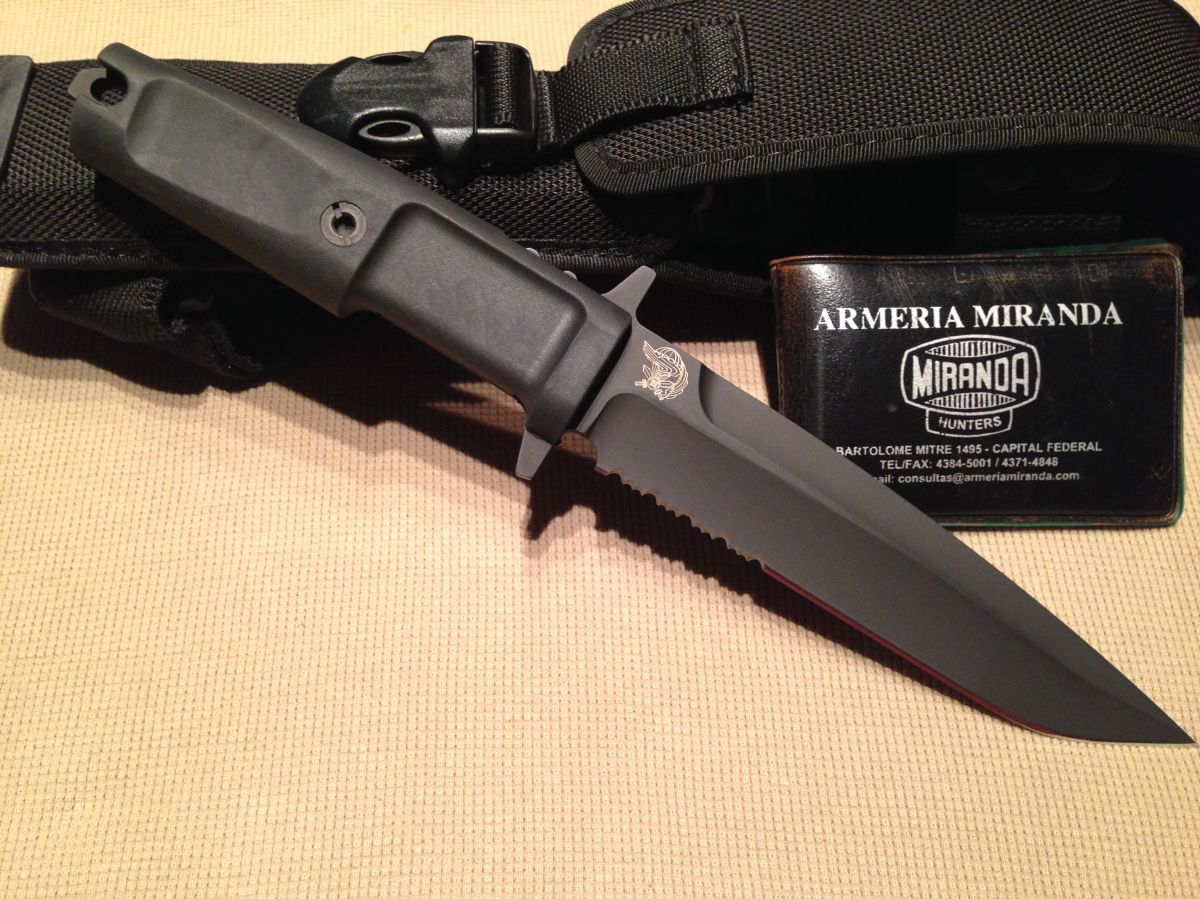knife: (566, 318, 1200, 752)
